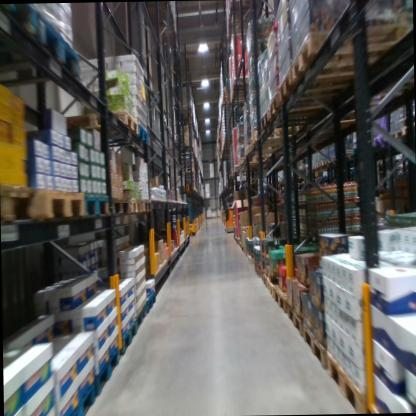forklift: (219, 142, 237, 235)
pallet: (286, 19, 396, 102), (0, 3, 87, 84), (275, 61, 364, 105), (41, 102, 138, 140), (271, 81, 365, 115), (323, 348, 370, 413), (31, 180, 88, 228), (0, 171, 34, 230), (257, 104, 326, 132), (93, 339, 122, 395), (249, 117, 311, 142), (305, 320, 333, 369), (65, 381, 98, 416), (116, 311, 139, 360), (104, 190, 134, 224), (77, 185, 109, 216), (274, 287, 299, 315), (143, 284, 156, 331), (124, 187, 140, 224), (240, 141, 279, 156), (137, 191, 157, 220), (286, 302, 303, 334), (233, 150, 266, 166), (328, 150, 351, 167), (137, 118, 153, 142), (135, 304, 146, 336), (231, 74, 249, 93), (224, 91, 246, 106), (387, 128, 402, 148), (401, 119, 414, 137), (261, 267, 271, 290), (267, 275, 275, 300), (307, 161, 316, 178), (253, 262, 263, 277), (321, 156, 329, 173), (246, 249, 253, 261), (316, 159, 321, 173)
